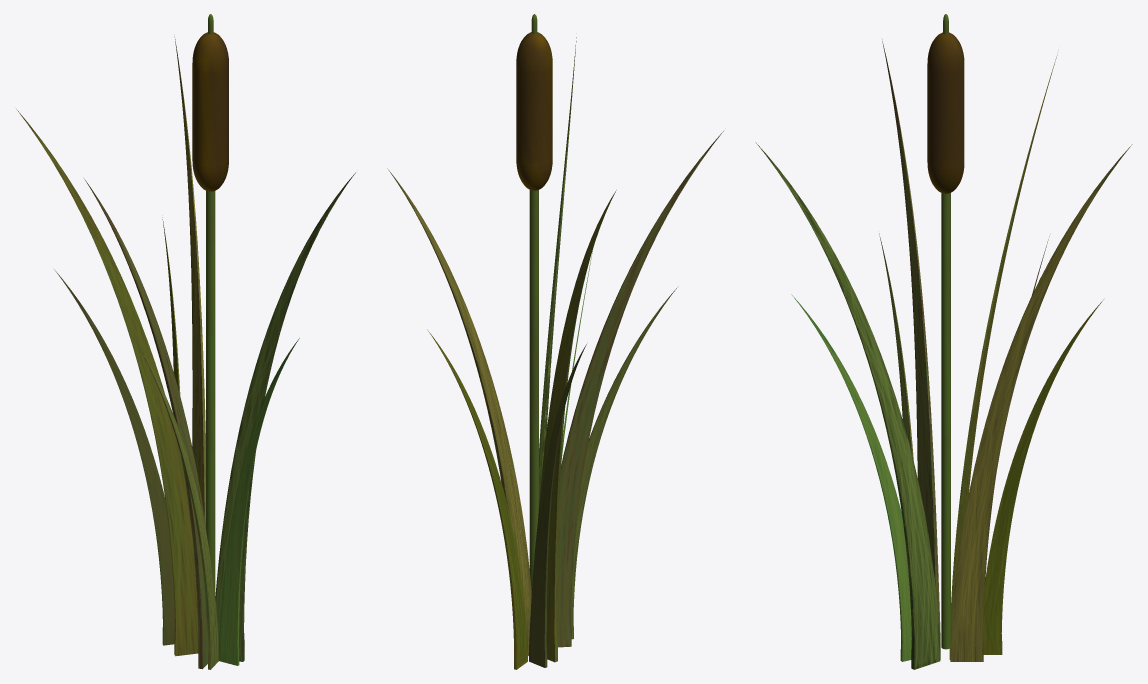
Rendered from schilf.fbx.
3 renders of one model, left to right at view 1: azimuth 30°, elevation 25°; view 2: azimuth 150°, elevation 25°; view 3: azimuth 270°, elevation 25°, orthographic.
Visible parts, largest first — view 1: blatt_, blatt_4, halm_kopf, blatt_5, blatt_1, blatt_7, blatt_3, halm_, blatt_6, blatt_2; view 2: blatt_7, halm_kopf, blatt_3, blatt_, halm_, blatt_1, blatt_2, blatt_6, blatt_4; view 3: blatt_3, blatt_4, halm_kopf, blatt_7, blatt_2, halm_, blatt_5, blatt_, blatt_6.
Part boxes in pixels (x1,y1,x2,y2): blatt_: (16, 109, 198, 656); blatt_4: (215, 172, 355, 661); halm_kopf: (192, 32, 228, 191); blatt_5: (219, 338, 299, 665); blatt_1: (54, 269, 174, 645); blatt_7: (84, 179, 207, 669); blatt_3: (174, 37, 205, 526); halm_: (206, 191, 215, 594); blatt_6: (133, 338, 218, 669); blatt_2: (162, 217, 180, 395); blatt_7: (557, 131, 723, 647); halm_kopf: (516, 32, 552, 190); blatt_3: (387, 168, 531, 655); blatt_: (538, 190, 616, 662); halm_: (529, 190, 538, 592); blatt_1: (529, 344, 586, 667); blatt_2: (427, 329, 527, 669); blatt_6: (571, 286, 678, 639); blatt_4: (539, 37, 576, 505); blatt_3: (950, 144, 1132, 661); blatt_4: (755, 142, 940, 669); halm_kopf: (927, 32, 964, 193); blatt_7: (882, 39, 940, 659); blatt_2: (983, 299, 1103, 654); halm_: (941, 193, 950, 649); blatt_5: (791, 294, 911, 661); blatt_: (949, 55, 1057, 659); blatt_6: (879, 233, 913, 461).
Size of the model in its own units: 18.27 by 51.6 by 27.43.
11 materials, 11 textured.
